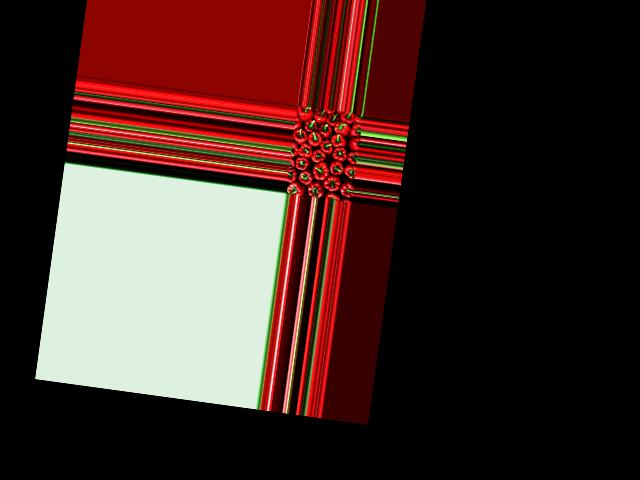bell_pepper: (296, 106, 312, 121)
